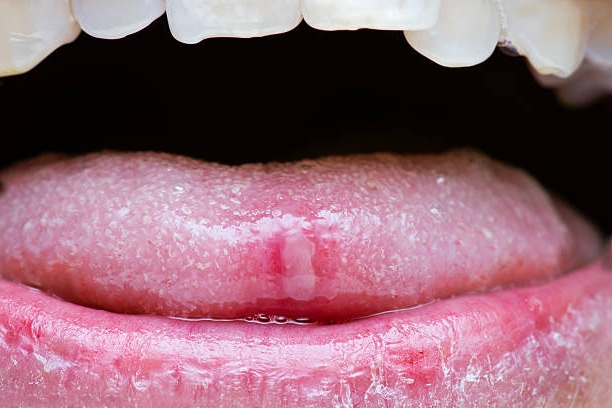Ulcer: (273, 220, 319, 302)
